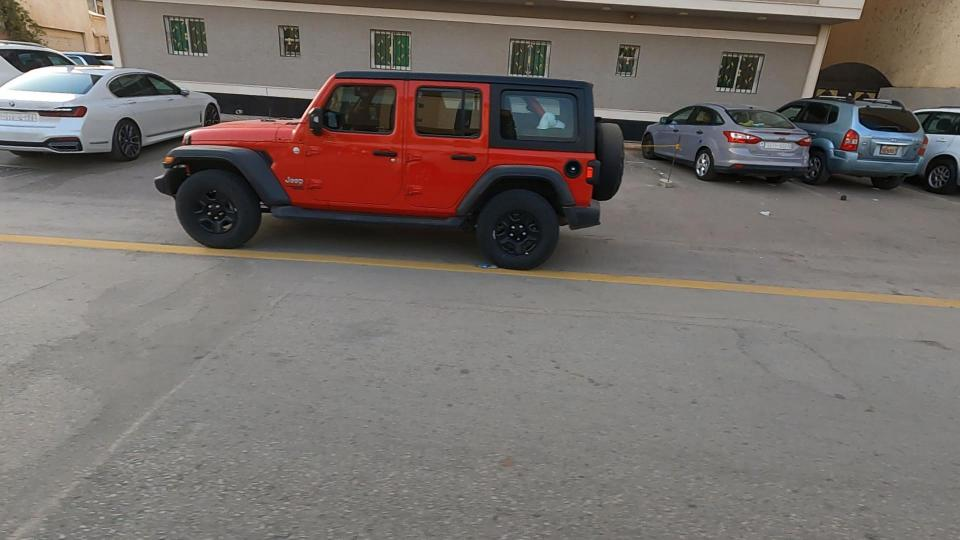GARBAGE: (744, 182, 799, 242), (458, 243, 520, 292), (828, 173, 872, 224)
